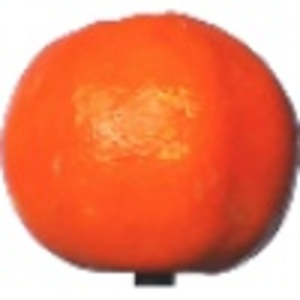tangerina: (2, 1, 300, 287)
